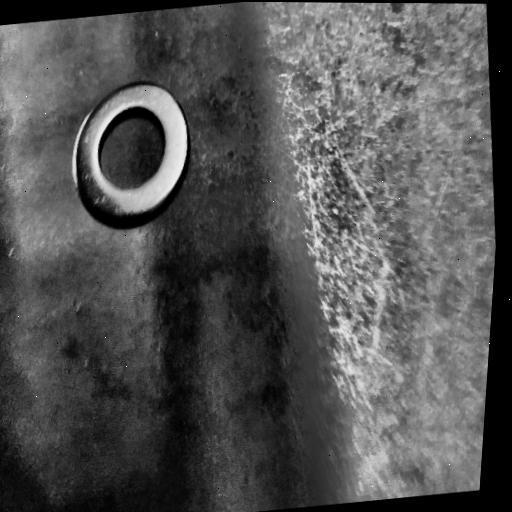Washer: (73, 82, 189, 229)
